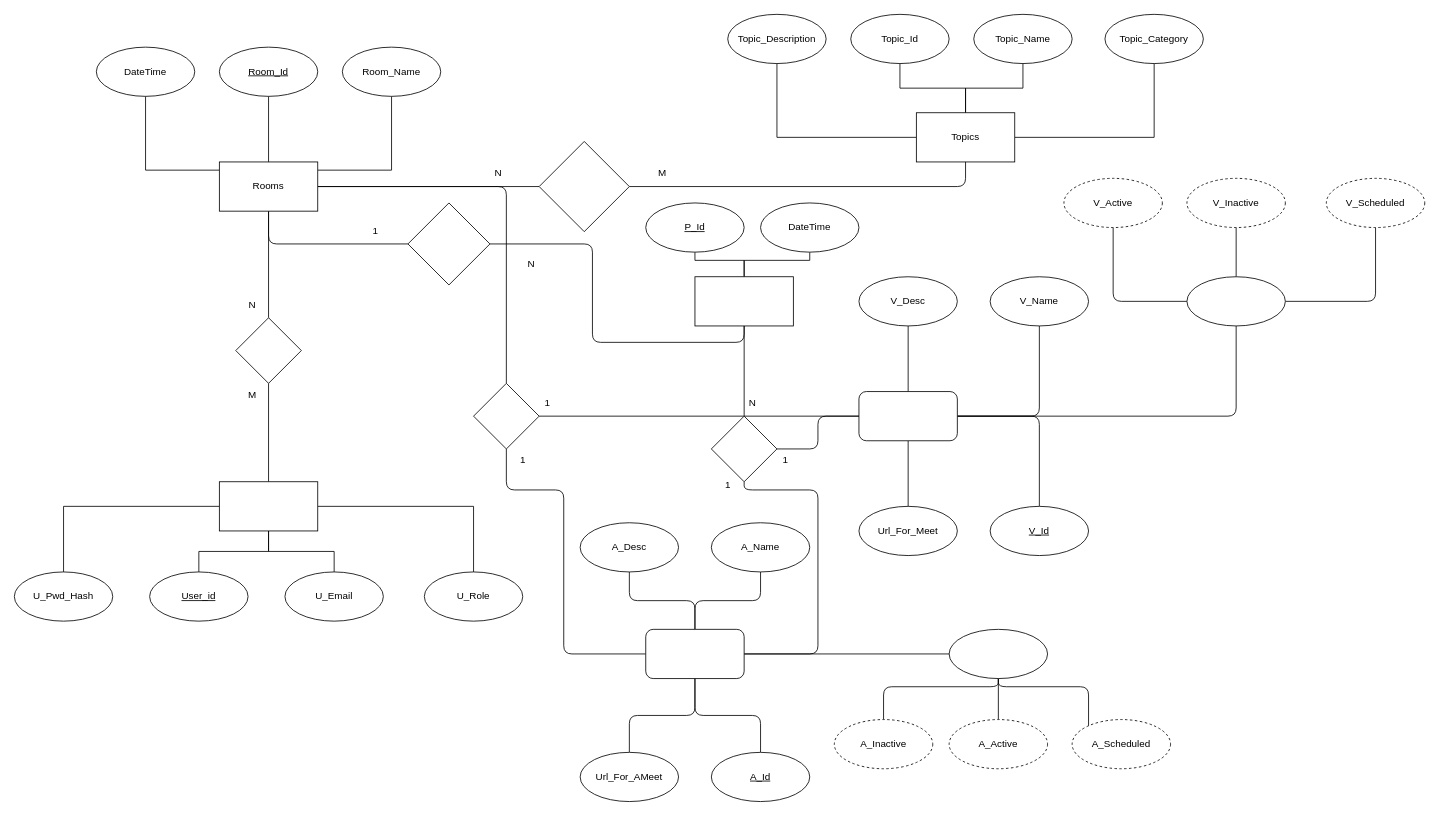
Image size: 1439x816. Some labels were removed from this diagram. Here are the shapes that lost their labels. From the top down, the box of each, then its label:
(538, 141, 629, 232): Categorized into
(407, 202, 490, 285): Attends/Joins
(694, 276, 793, 326): Participants
(1186, 276, 1285, 326): V_Status
(235, 317, 301, 383): Creates
(473, 383, 539, 449): Mode
(858, 391, 957, 441): Video Based
(711, 415, 777, 482): Attend
(219, 481, 318, 531): User
(645, 629, 744, 679): Audio Based
(948, 629, 1048, 679): A_Status
